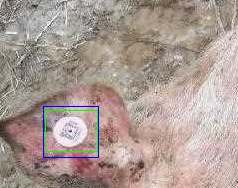text: (45, 110, 97, 151)
